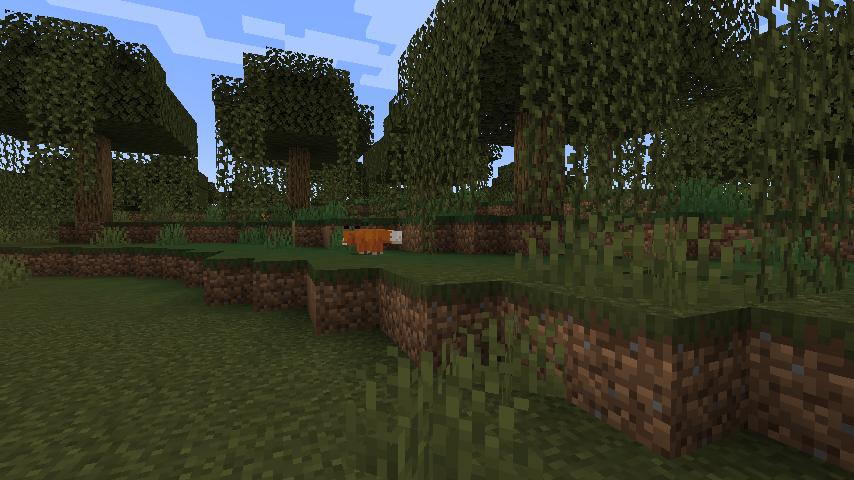fox: (338, 217, 405, 263)
